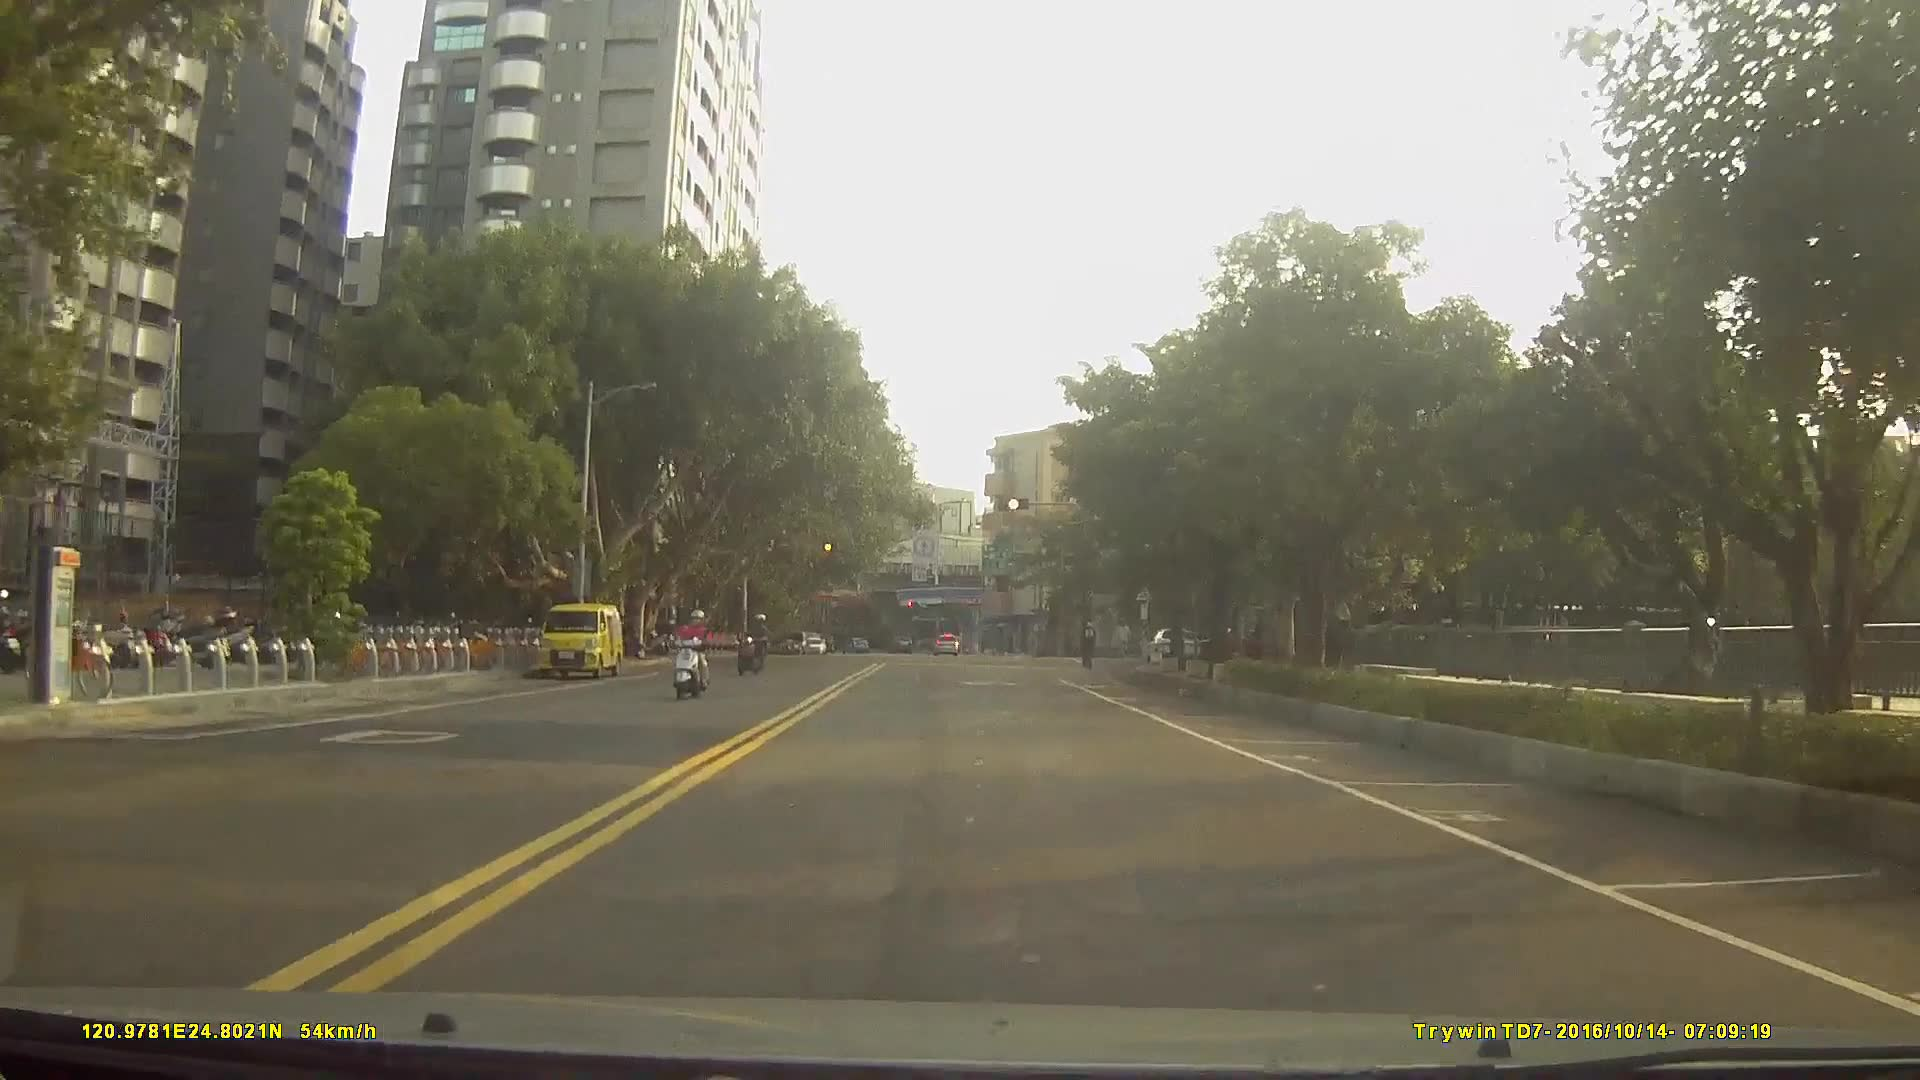pedestrian: (1115, 613, 1135, 659)
rider: (669, 609, 718, 699), (737, 607, 773, 672), (1079, 619, 1101, 673)
vehicle: (935, 633, 959, 655)
